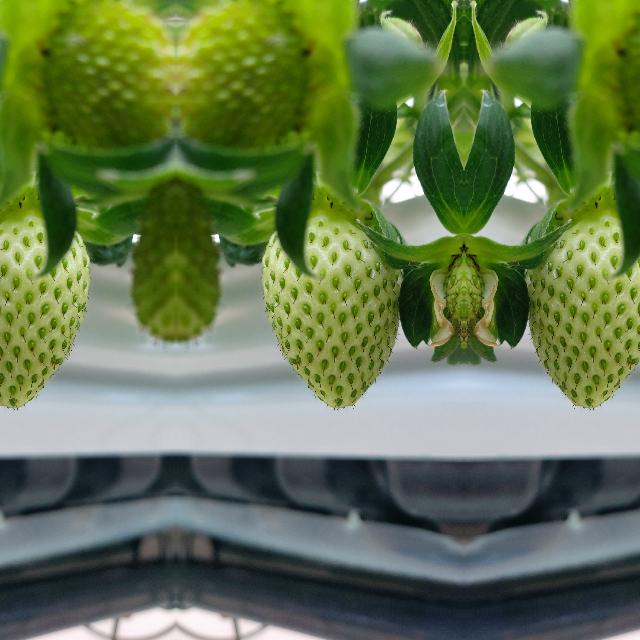Health_25: (258, 208, 399, 410), (526, 208, 640, 410), (0, 208, 91, 410)
